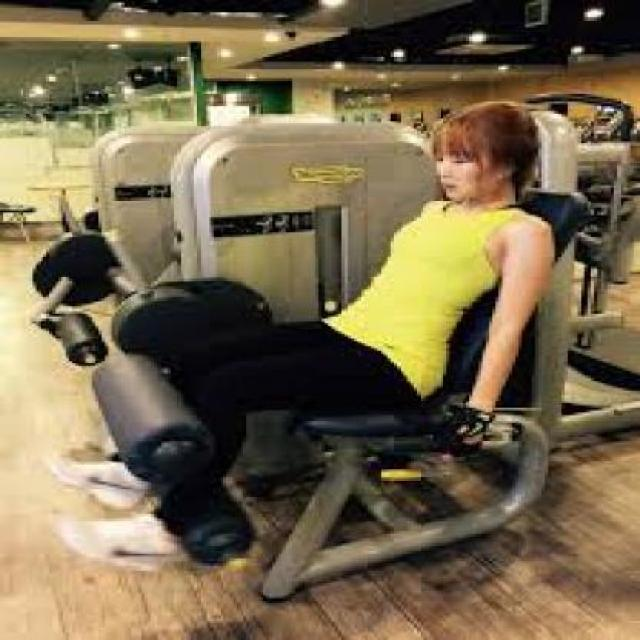leg extension: (40, 88, 631, 624)
